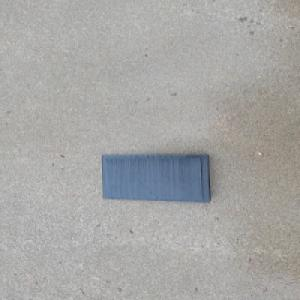PlasticPart: (99, 152, 211, 203)
